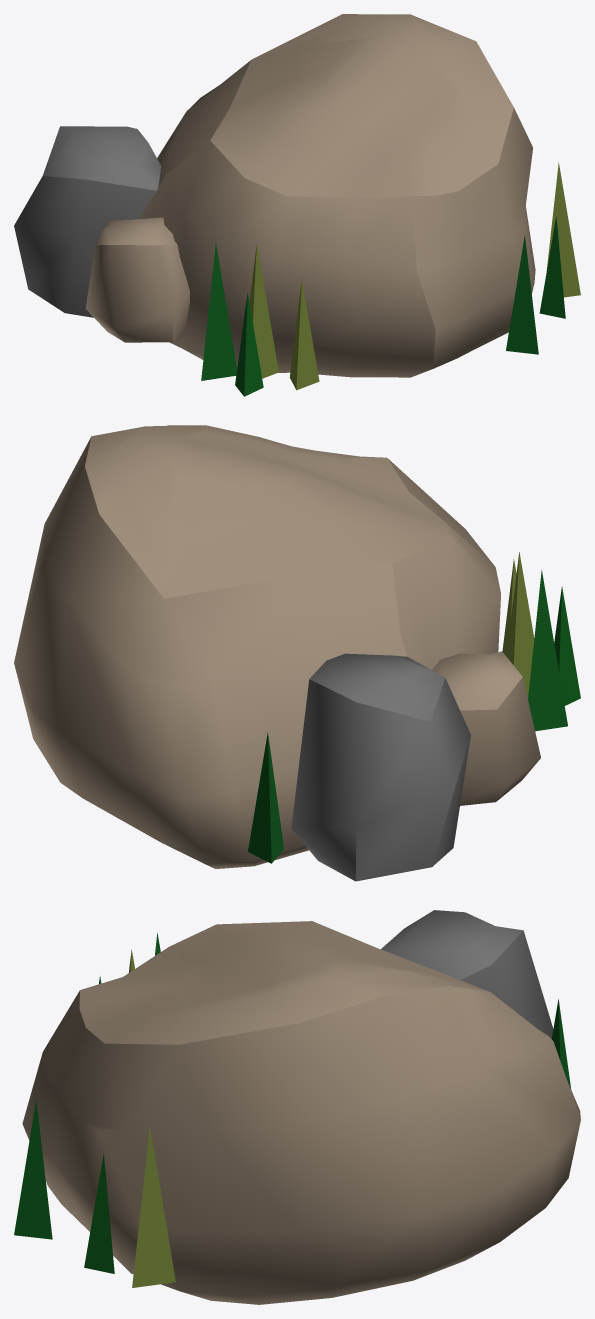
The model's file is rock2.glb.
3 renders of one model, top to bottom at view 1: azimuth 30°, elevation 25°; view 2: azimuth 150°, elevation 25°; view 3: azimuth 270°, elevation 25°, orthographic. The views are drawn at different scales.
Parts seen in each view (by area): view 1: Rock2; view 2: Rock2; view 3: Rock2.
Part boxes in pixels (bbox=[...]): Rock2: bbox=[14, 14, 580, 396]; Rock2: bbox=[14, 425, 580, 881]; Rock2: bbox=[14, 910, 580, 1304].
Size of the model in its own units: 1.88 by 1.17 by 1.89.
1 material, 1 textured.
